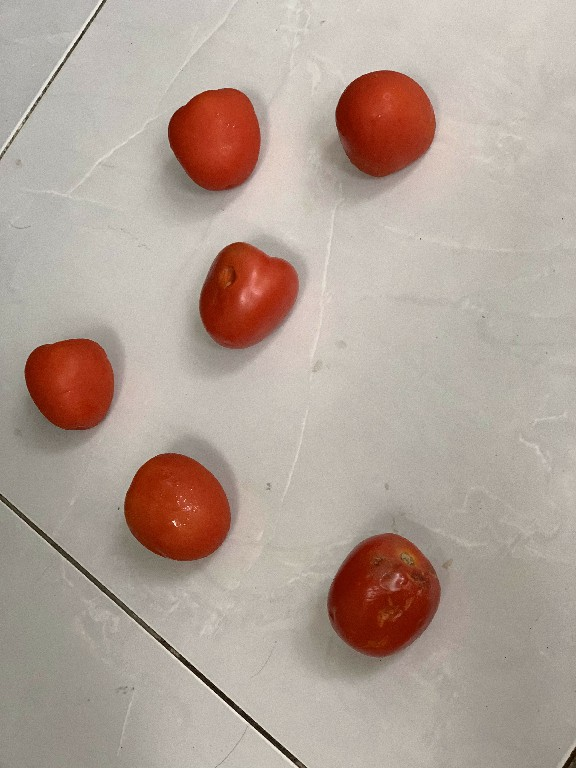NG: (324, 528, 438, 668), (196, 235, 306, 349)
OK: (121, 450, 235, 566), (325, 63, 438, 180), (160, 83, 262, 193), (22, 335, 118, 436)
